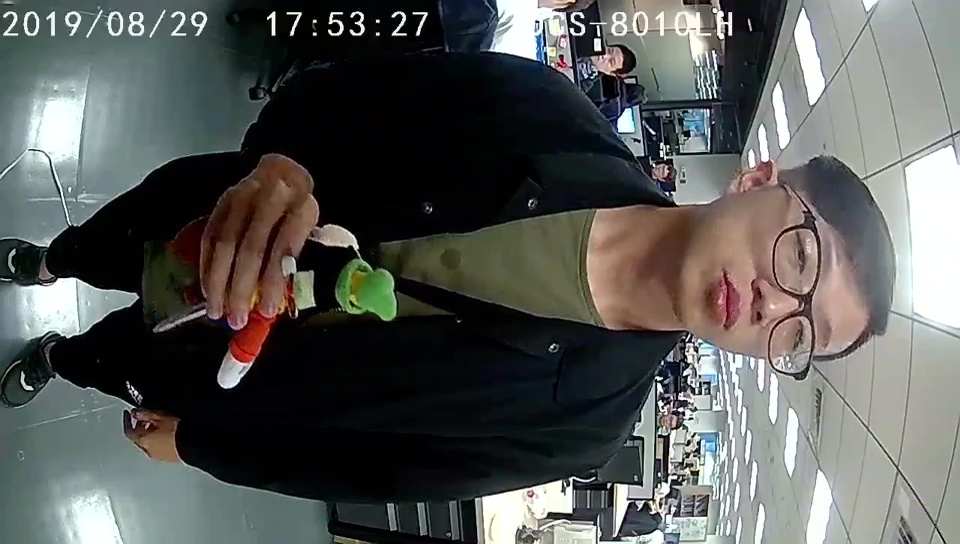goofy: (202, 220, 400, 389)
